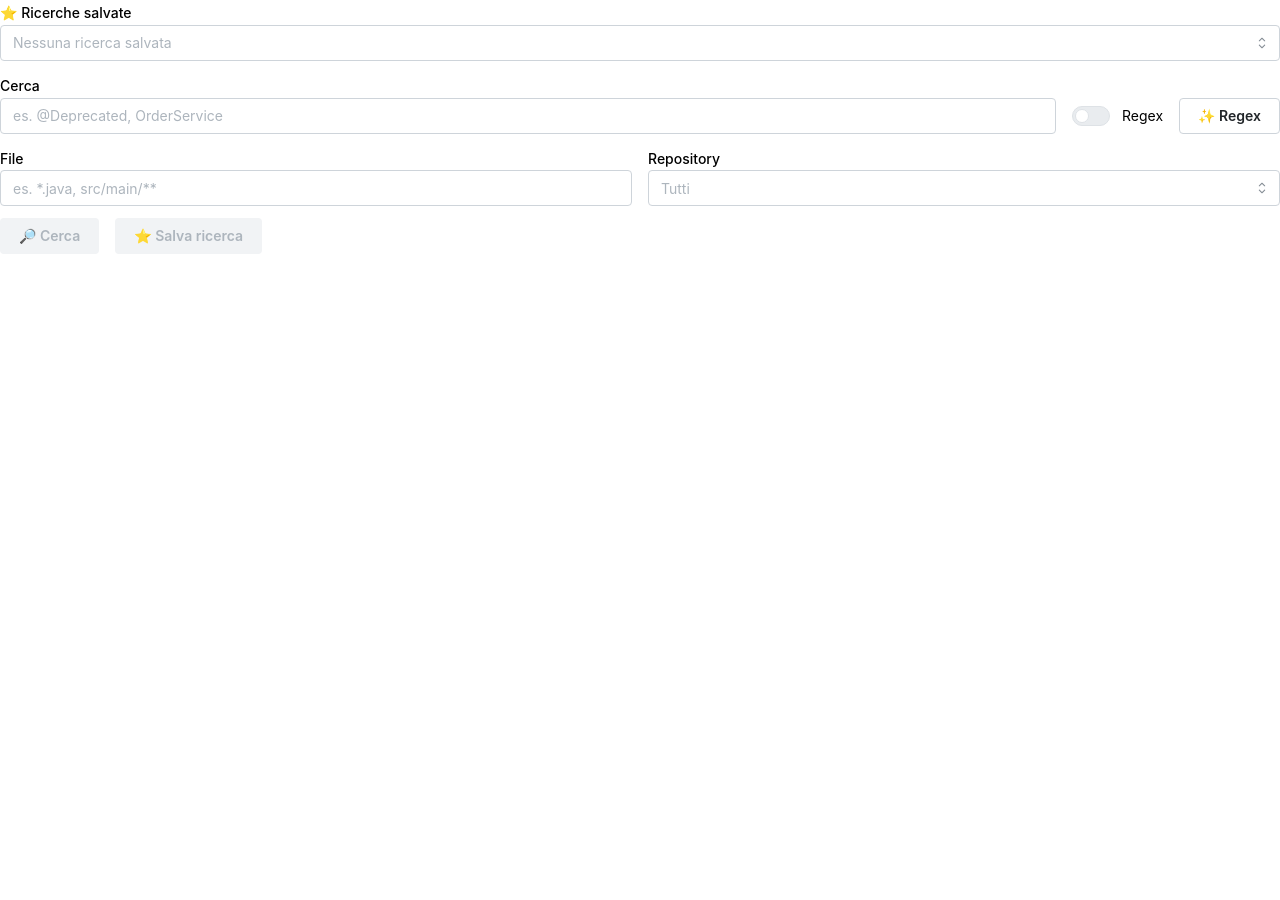
Test: Ricerche salvate › a regex that does not work is said and cannot be used
Click the button "✨ Regex" at point(1230, 116), box [1179, 98, 1279, 134]
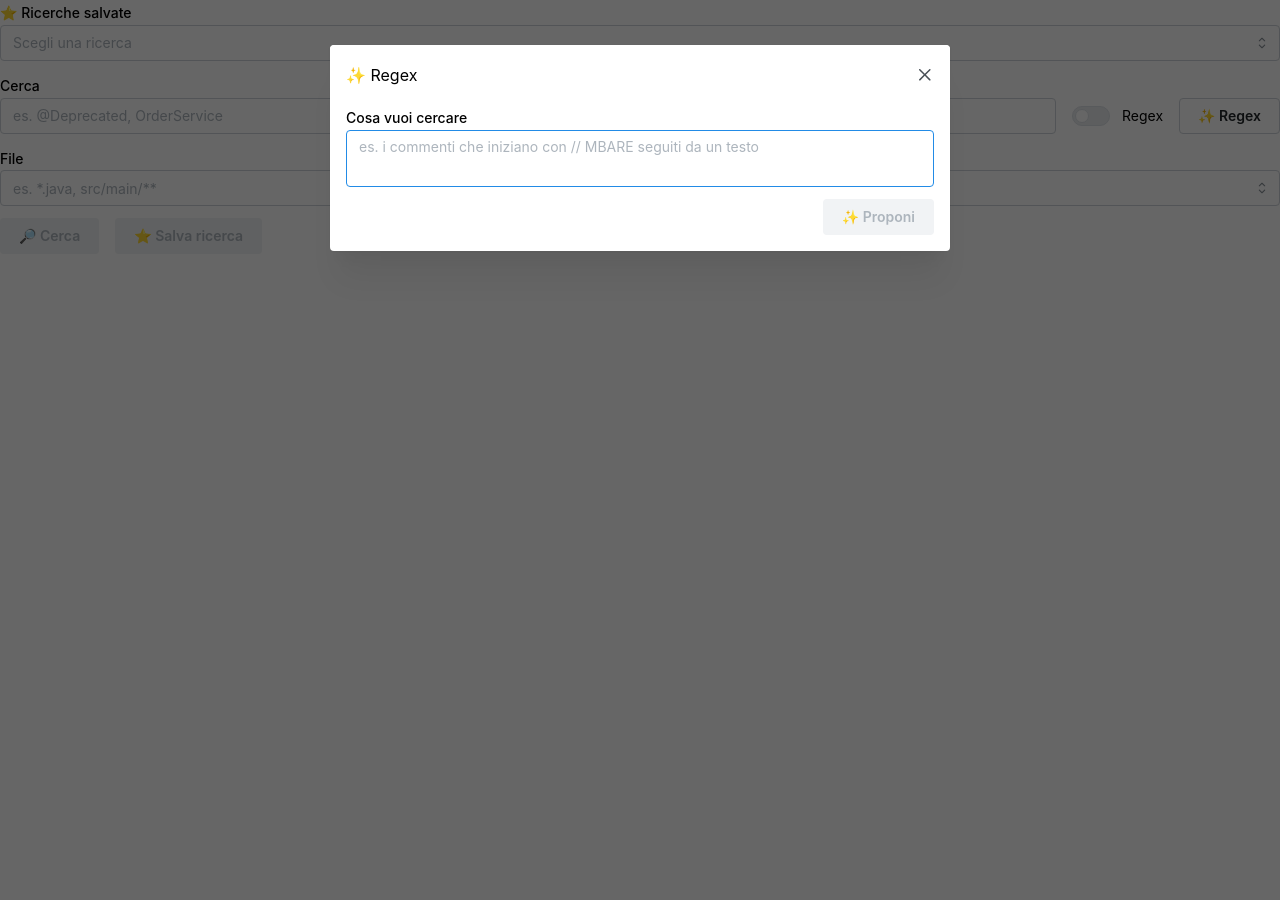
Type "x" into the text box labelled "Cosa vuoi cercare" at point(640, 158), box [346, 130, 934, 187]
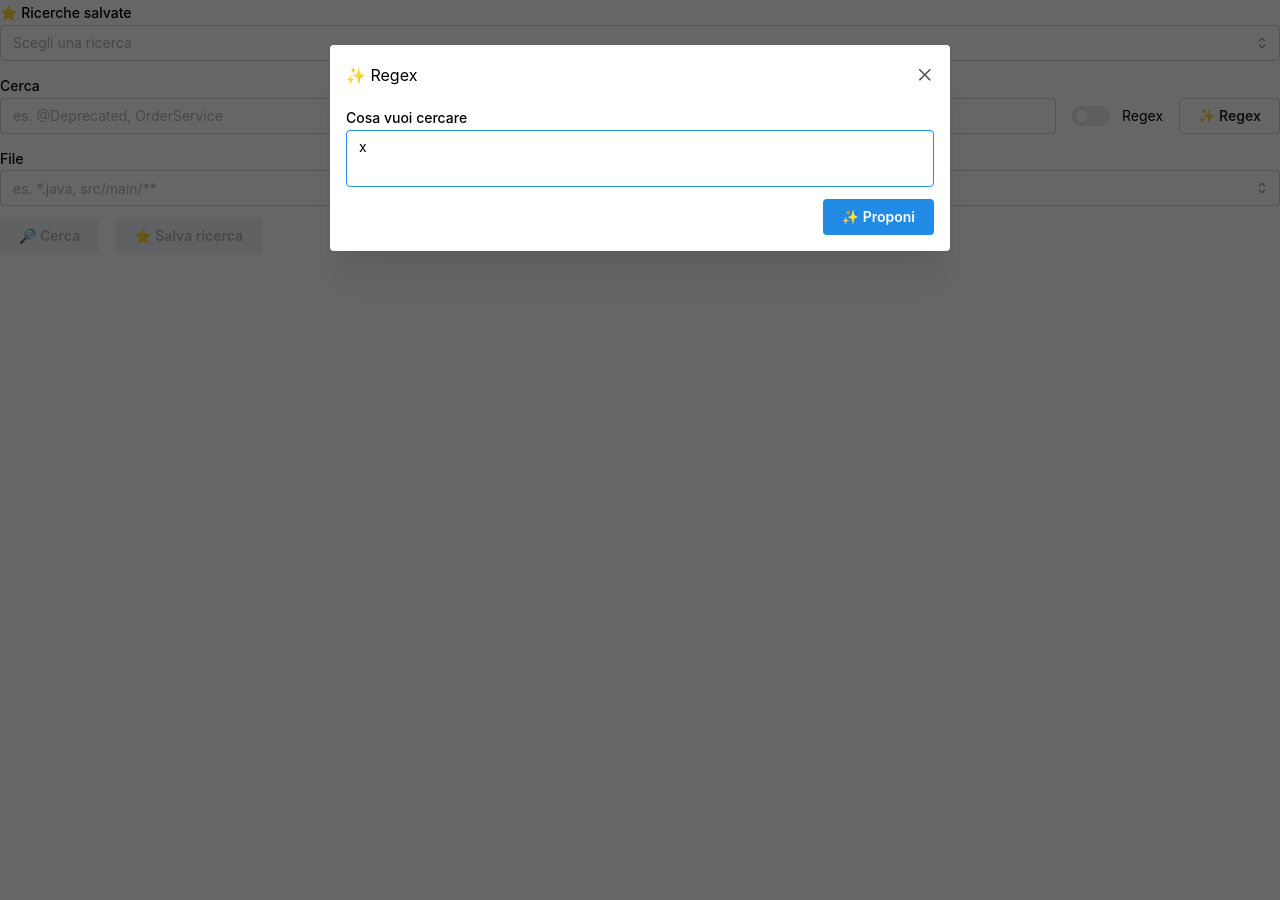
Click the button "✨ Proponi" at point(878, 217), box [823, 199, 934, 235]
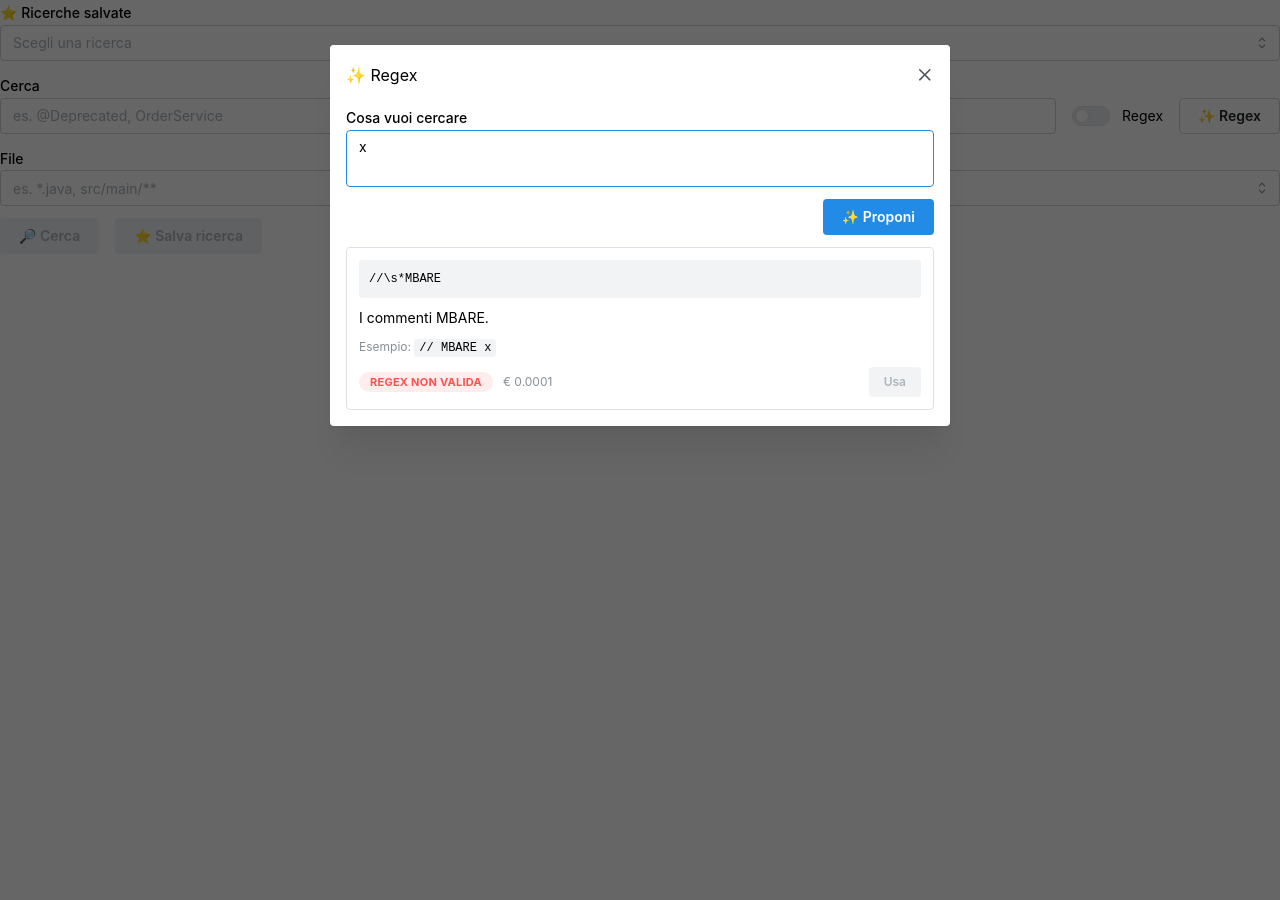
Result: the text "regex non valida" is shown at [370, 373, 482, 391]
Result: the button "Usa" is disabled at [869, 367, 921, 397]
